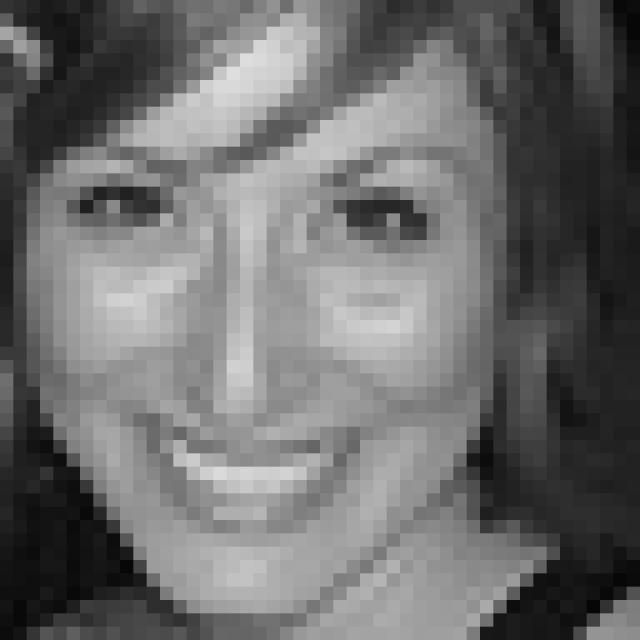happy: (55, 133, 481, 553)
